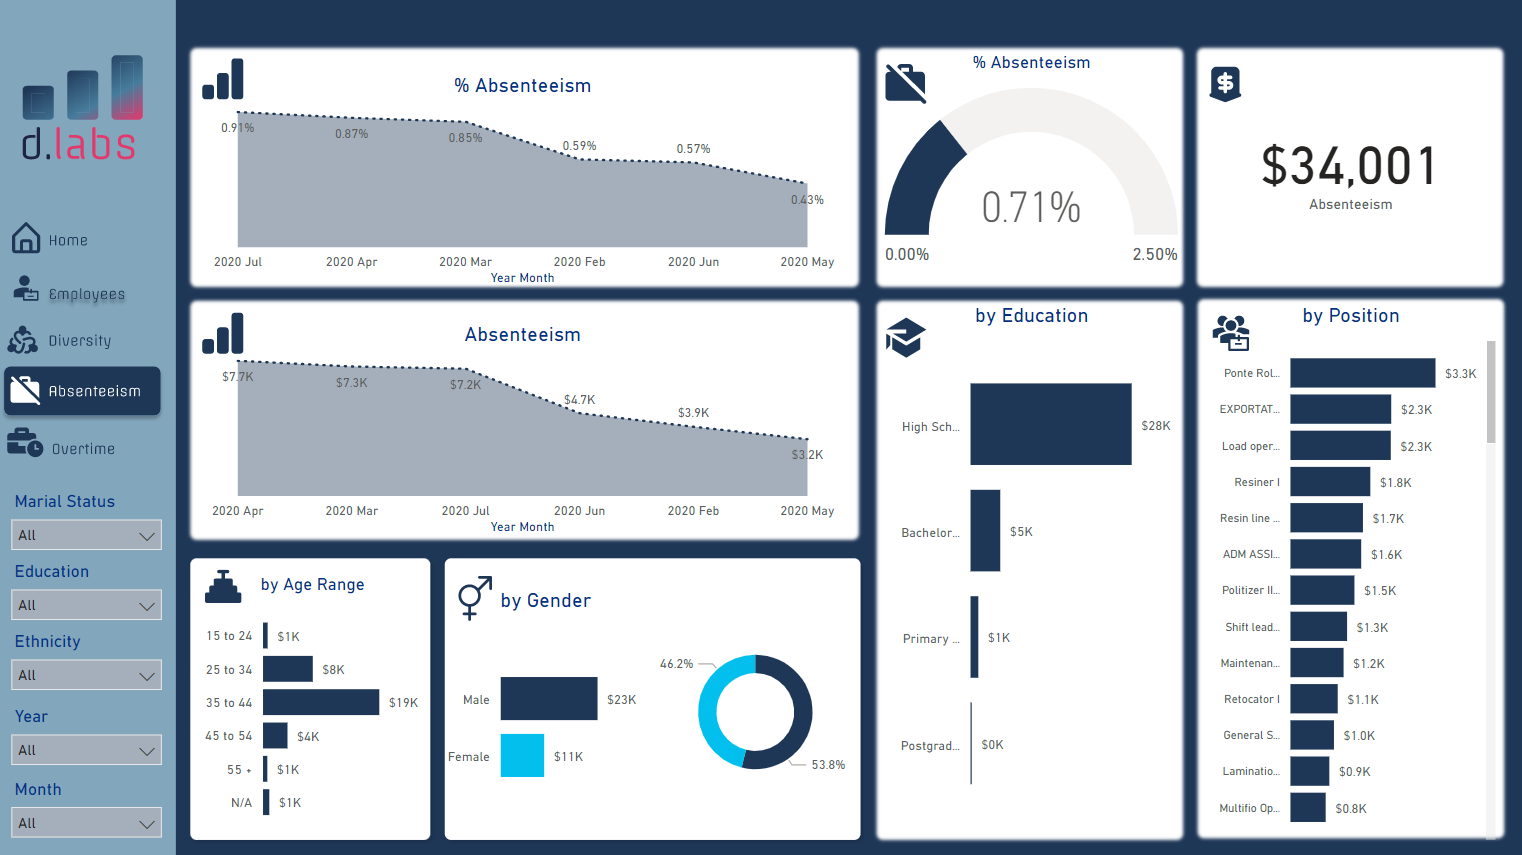

What the dashboard file says about the page in this screenshot:
{"tool":"powerbi","page":{"name":"Absenteeism","canvas":[1280,720],"ordinal":3},"visuals":[{"type":"areaChart","title":"% Absenteeism","fields":{"Category":["dCalendario.Year","dCalendario.Month"],"Y":["Measures (2).% Absenteeism"]},"box":[157.6,62,565,183.3],"z":0},{"type":"areaChart","title":"Absenteeism","fields":{"Category":["dCalendario.Year","dCalendario.Month"],"Y":["Measures (2).Absenteeism"]},"box":[157.6,271,565,183.3],"z":1000},{"type":"clusteredBarChart","title":"by Age Range","fields":{"Category":["dFuncionarios.Faixa Etaria"],"Y":["Measures (2).Absenteeism"]},"box":[166.5,483.5,193.1,219.6],"z":2000},{"type":"clusteredBarChart","title":"by Gender","fields":{"Y":["Measures (2).Absenteeism"],"Category":["dFuncionarios.Sexo"]},"box":[371.1,494.2,177.1,209],"z":3000},{"type":"donutChart","fields":{"Category":["dFuncionarios.Sexo"],"Y":["Measures (2).% Absenteeism"]},"box":[548.2,494.2,174.5,209],"z":4000},{"type":"clusteredBarChart","title":"by Education","fields":{"Y":["Measures (2).Absenteeism"],"Category":["dFuncionarios.Escolaridade"]},"box":[739.5,255.1,256.8,448.1],"z":5000},{"type":"clusteredBarChart","title":"by Position","fields":{"Y":["Measures (2).Absenteeism"],"Category":["dFuncionarios.fContratos.Position"]},"box":[1008.7,255.1,253.3,456.1],"z":6000},{"type":"gauge","fields":{"Y":["Measures (2).% Absenteeism"]},"box":[739.3,43.9,256.4,194.5],"z":7000},{"type":"card","fields":{"Values":["Measures (2).Absenteeism"]},"box":[1008.7,44.3,253.3,194.8],"z":8000},{"type":"actionButton","box":[6.2,182.4,109.8,32.8],"z":9000},{"type":"actionButton","box":[6.2,225.8,117.8,35.4],"z":10000},{"type":"actionButton","box":[6.2,354.2,100.1,38.1],"z":11000},{"type":"actionButton","box":[6.2,271,109.8,32.8],"z":12000},{"type":"slicer","fields":{"Values":["dFuncionarios.Estado Civil"]},"box":[0,408.3,147,70],"z":12001},{"type":"slicer","fields":{"Values":["dFuncionarios.Escolaridade"]},"box":[0,467.6,147,70],"z":12002},{"type":"slicer","fields":{"Values":["dFuncionarios.Nacionalidade"]},"box":[0,526.1,147,70],"z":12003},{"type":"slicer","fields":{"Values":["dCalendario.Year"]},"box":[0,588.9,147,70],"z":12004},{"type":"slicer","fields":{"Values":["dCalendario.MOnth"]},"box":[0,650,147,70],"z":12005}]}

Visuals, with their boxes on the page's 1280x720 design canvas (x1, y1, x2, y2). These are canvas units, not pixel positions in the 1522x855 screenshot, which may show the page scaled, cropped or inside an application window:
"% Absenteeism" areaChart: bbox(158, 62, 723, 245)
"Absenteeism" areaChart: bbox(158, 271, 723, 454)
"by Age Range" clusteredBarChart: bbox(166, 484, 360, 703)
"by Gender" clusteredBarChart: bbox(371, 494, 548, 703)
donutChart - dFuncionarios.Sexo x Measures (2).% Absenteeism: bbox(548, 494, 723, 703)
"by Education" clusteredBarChart: bbox(740, 255, 996, 703)
"by Position" clusteredBarChart: bbox(1009, 255, 1262, 711)
gauge - Measures (2).% Absenteeism: bbox(739, 44, 996, 238)
card - Measures (2).Absenteeism: bbox(1009, 44, 1262, 239)
actionButton: bbox(6, 182, 116, 215)
actionButton: bbox(6, 226, 124, 261)
actionButton: bbox(6, 354, 106, 392)
actionButton: bbox(6, 271, 116, 304)
slicer - dFuncionarios.Estado Civil: bbox(0, 408, 147, 478)
slicer - dFuncionarios.Escolaridade: bbox(0, 468, 147, 538)
slicer - dFuncionarios.Nacionalidade: bbox(0, 526, 147, 596)
slicer - dCalendario.Year: bbox(0, 589, 147, 659)
slicer - dCalendario.MOnth: bbox(0, 650, 147, 720)
